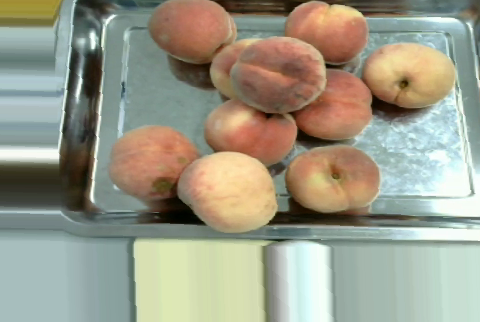Peach: (175, 150, 279, 233), (110, 124, 200, 205), (232, 37, 325, 111), (286, 142, 380, 215), (364, 39, 455, 111), (206, 97, 301, 158), (148, 0, 237, 64), (282, 0, 368, 63), (296, 69, 371, 138)
